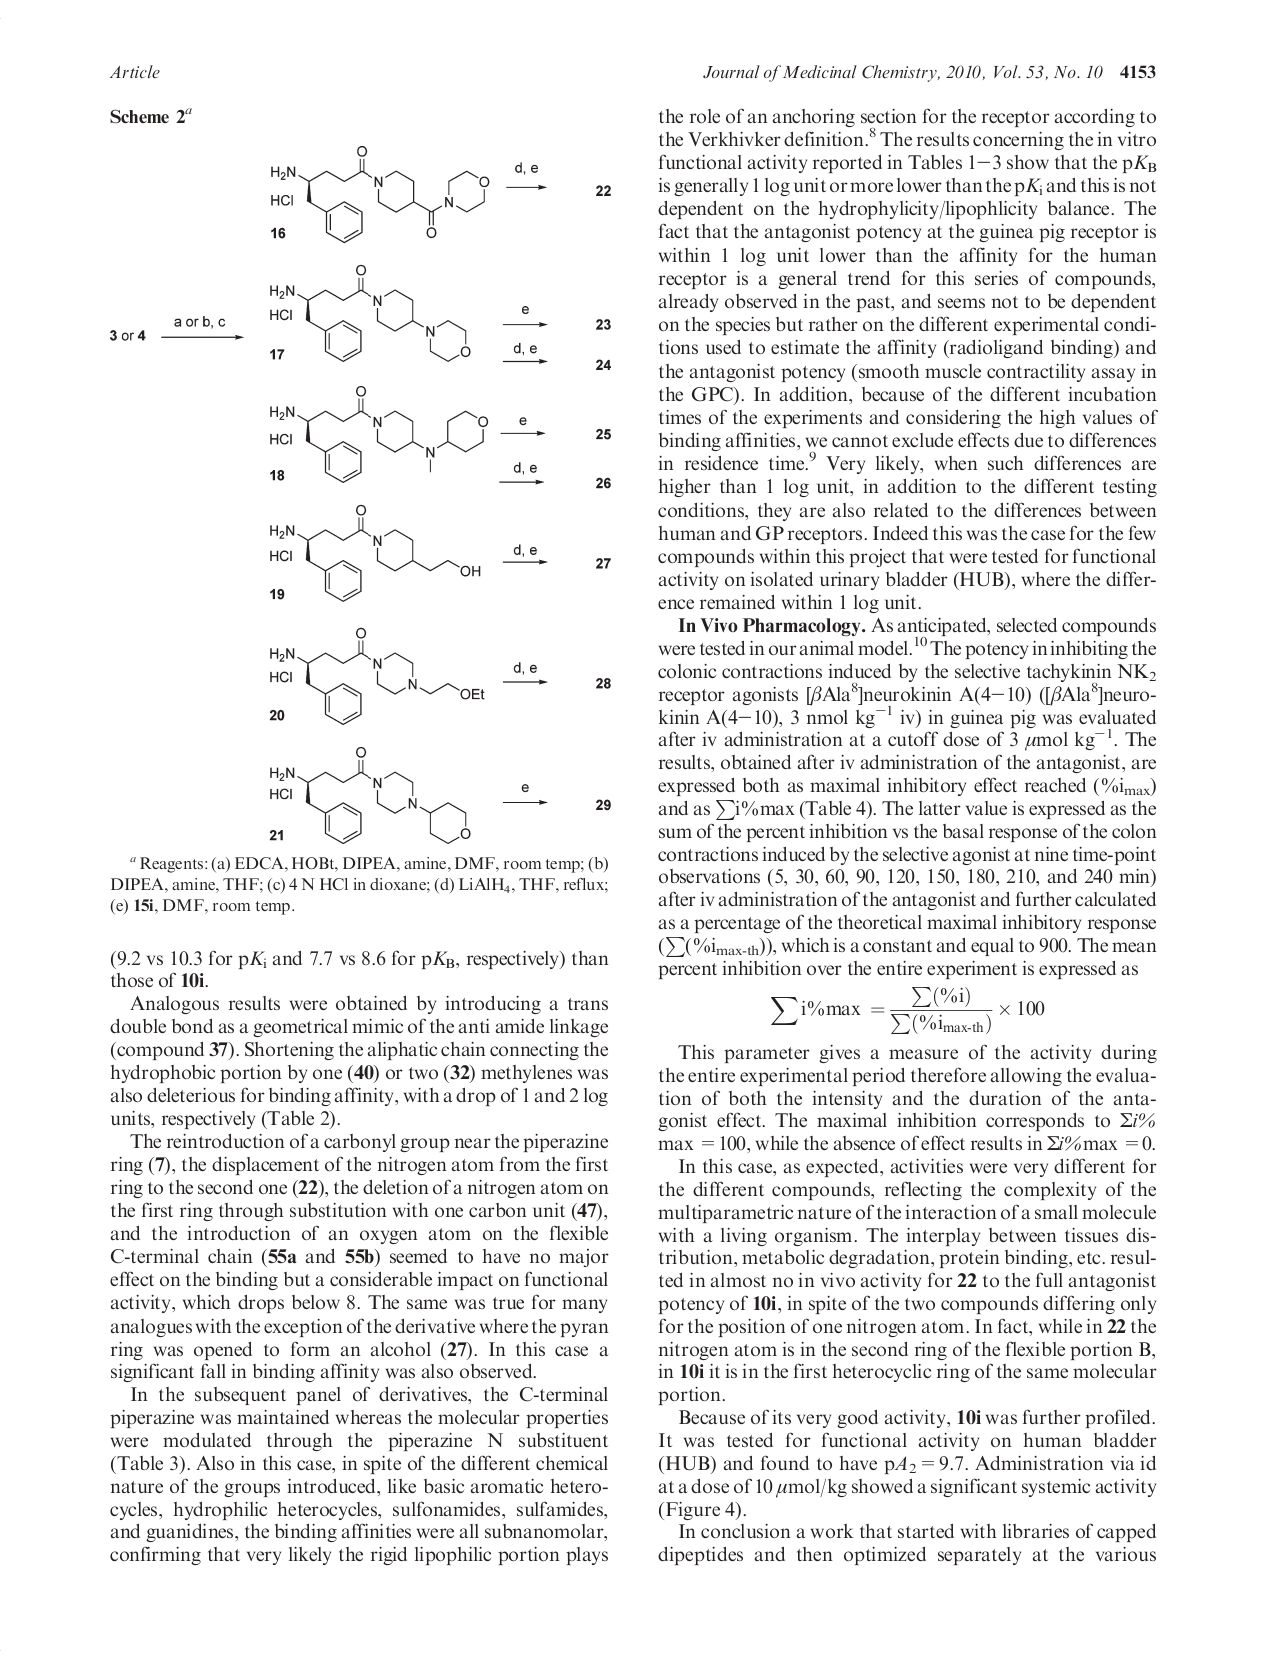exist_molecular: (265, 136, 505, 250), (259, 379, 496, 485), (257, 261, 480, 368), (263, 741, 483, 848), (265, 501, 489, 606), (266, 622, 487, 727)
